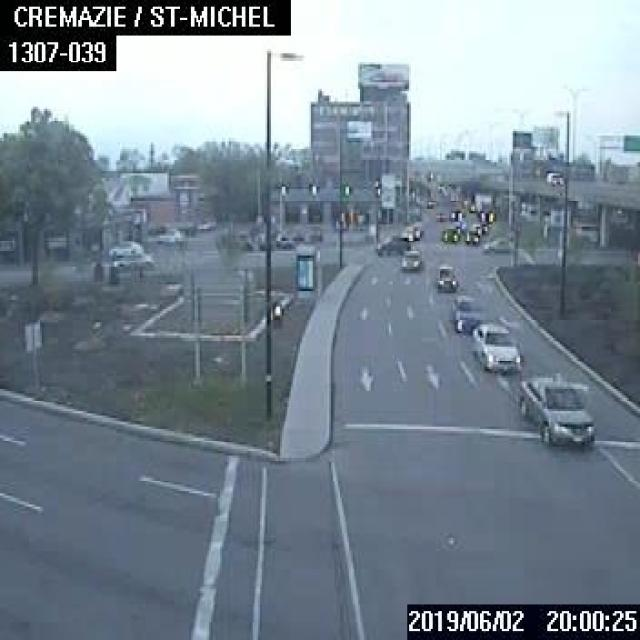vehicle: (514, 371, 594, 442), (471, 322, 522, 371), (451, 292, 482, 332), (375, 232, 408, 256), (433, 264, 456, 289), (114, 250, 153, 264), (398, 247, 422, 269), (107, 238, 142, 253), (156, 227, 181, 243), (482, 235, 507, 251), (408, 218, 422, 238), (441, 225, 458, 241), (196, 214, 214, 229), (545, 170, 563, 184), (399, 224, 414, 239), (463, 228, 478, 242), (448, 206, 461, 219), (434, 210, 446, 220), (470, 223, 480, 233), (479, 221, 486, 231)
